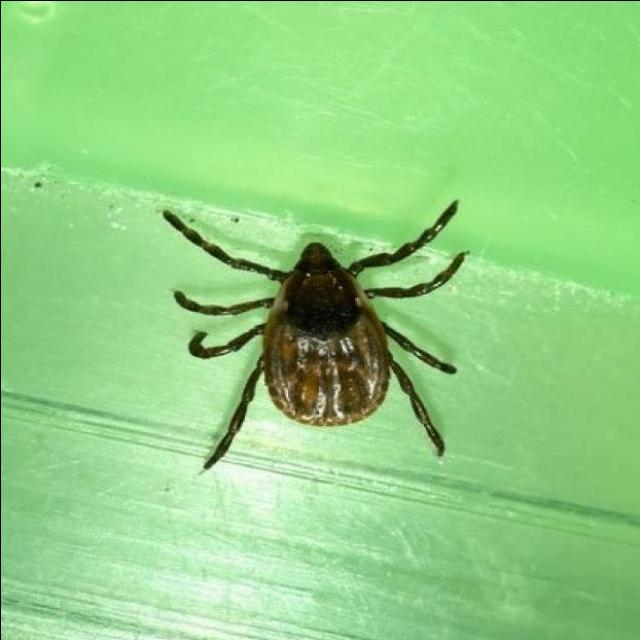Rhipicephalus Sanguineus-F: (162, 199, 466, 469)
